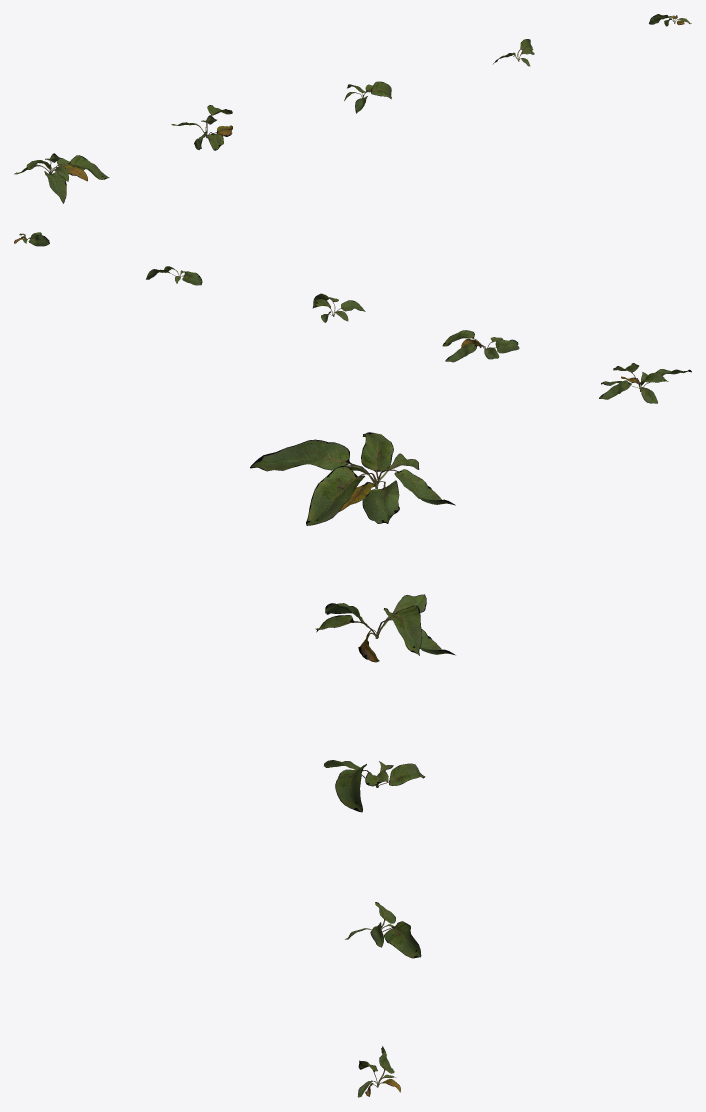
File: weed_plant_02.glb
The picture shows the model from 3 angles, top to bottom: view 1: azimuth 30°, elevation 25°; view 2: azimuth 150°, elevation 25°; view 3: azimuth 270°, elevation 25°; orthographic projection. The views are drawn at different scales.
Visible parts, largest first — view 1: weed_plant_02_a_LOD0, weed_plant_02_b_LOD0, weed_plant_02_c_LOD0, weed_plant_02_d_LOD0; view 2: weed_plant_02_a_LOD0, weed_plant_02_b_LOD0, weed_plant_02_c_LOD0, weed_plant_02_d_LOD0, weed_plant_02_e_LOD0; view 3: weed_plant_02_a_LOD0, weed_plant_02_b_LOD0, weed_plant_02_c_LOD0, weed_plant_02_d_LOD0.
Boxes of the visible parts, box(x1,y1,x2,y2) form: weed_plant_02_a_LOD0: box(14, 153, 109, 203); weed_plant_02_b_LOD0: box(171, 105, 232, 150); weed_plant_02_c_LOD0: box(344, 81, 391, 113); weed_plant_02_d_LOD0: box(493, 39, 534, 66); weed_plant_02_a_LOD0: box(599, 363, 691, 403); weed_plant_02_b_LOD0: box(442, 330, 519, 362); weed_plant_02_c_LOD0: box(312, 293, 365, 322); weed_plant_02_d_LOD0: box(146, 266, 202, 285); weed_plant_02_e_LOD0: box(14, 232, 49, 246); weed_plant_02_a_LOD0: box(250, 432, 455, 525); weed_plant_02_b_LOD0: box(315, 594, 455, 662); weed_plant_02_c_LOD0: box(324, 760, 425, 812); weed_plant_02_d_LOD0: box(345, 902, 421, 958).
Bounding box in the file's own units: 2.13 × 0.0751 × 0.2909.
Materials: 1 (1 with a texture image).
